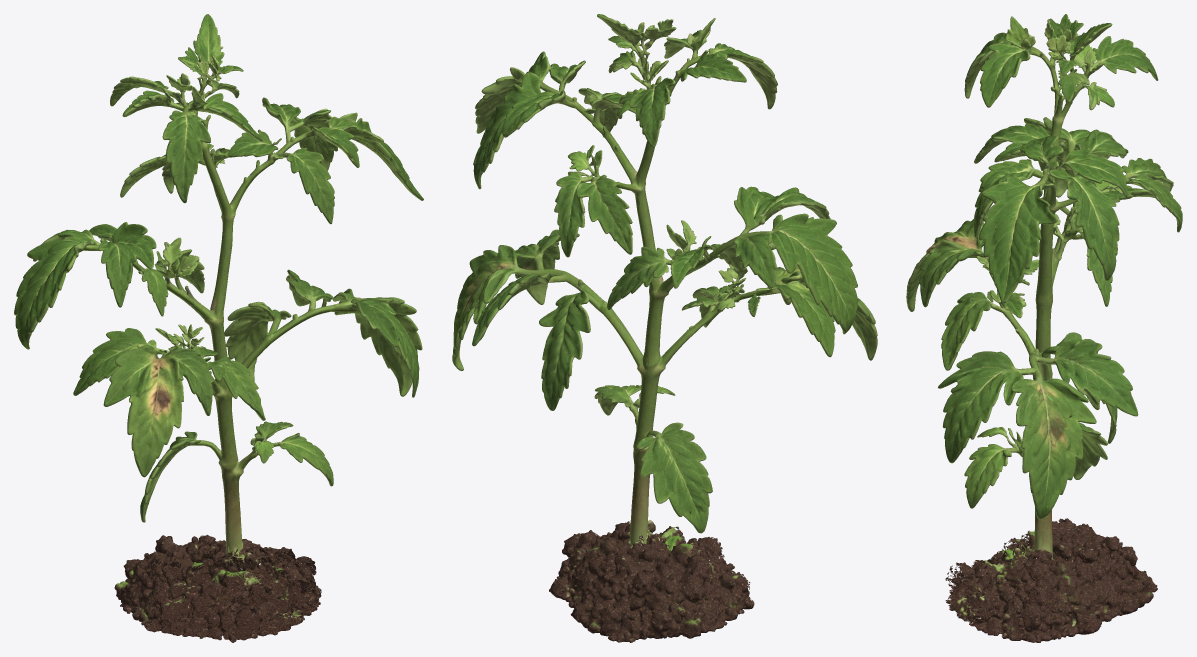
Rendered from TomatoPlant_Final.glb.
3 views of the same model, side by side, from view 1: azimuth 30°, elevation 25°; view 2: azimuth 150°, elevation 25°; view 3: azimuth 270°, elevation 25° (orthographic). The views are drawn at different scales.
Parts seen in each view (by area): view 1: TomatoPlant, Soil, DiseasedLeaf; view 2: TomatoPlant, Soil, DiseasedLeaf; view 3: TomatoPlant, Soil, DiseasedLeaf.
Part boxes in pixels (box(x1,y1,x2,y2)): TomatoPlant: box(14, 14, 423, 556); Soil: box(114, 534, 321, 642); DiseasedLeaf: box(103, 344, 213, 477); TomatoPlant: box(452, 14, 857, 544); Soil: box(549, 520, 754, 642); DiseasedLeaf: box(757, 265, 877, 360); TomatoPlant: box(938, 14, 1182, 558); Soil: box(945, 518, 1157, 642); DiseasedLeaf: box(906, 218, 988, 311).
Size of the model in its own units: 1.36 by 1.9 by 0.8155.
1 material, 1 textured.
